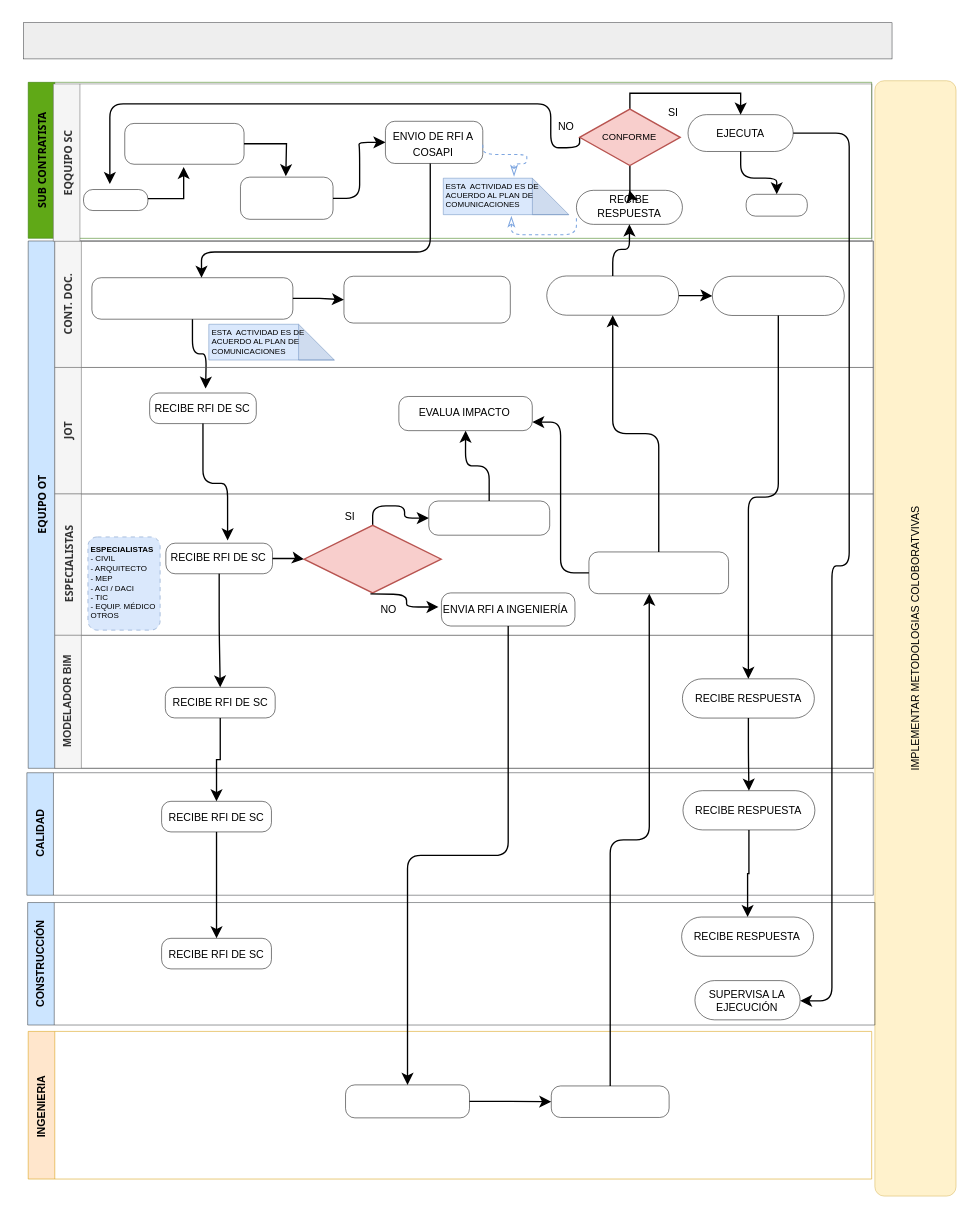
Some shapes in this 979 by 1220 pixel diagram are drawn without their labels. The shapes that lost their labels are listed below. From the top down, each one's centre as x and y in pixels, then its label:
At [457,40]: "FLUJOGRAMA: REQUERIMIENTO DE INFORMACIÓN (RFI) SUBCONTRATISTA (SC)".
At [184,143]: "IDENTIFICAR INCOMPATIBILIDADES".
At [115,199]: "INICIO".
At [286,197]: "GENERAR CONSULTA EN RFI".
At [776,204]: "FIN".
At [191,298]: "RECIBE E INFORMA LA RECEPCIÓN DEL RFI".
At [426,299]: "ALMACENA RFI EN EL SERVIDOR Y ACTUALIZA LOG DE RFI".
At [612,295]: "ENVIA RESPUESTA AL SC".
At [777,295]: "INFORMA LA RESPUESTA DEL RFI".
At [488,517]: "GENERA RESPUESTA DE RFI".
At [372,558]: "TIENE TODA LA INFORMACIÓN PARA LA RESPUESTA".
At [658,572]: "REVISIÓN Y EVALUACIÓN DE LA RESPUESTA".
At [407,1100]: "RECIBE RFI DE PROYECTO".
At [609,1101]: "EMITE RESPUESTA".
